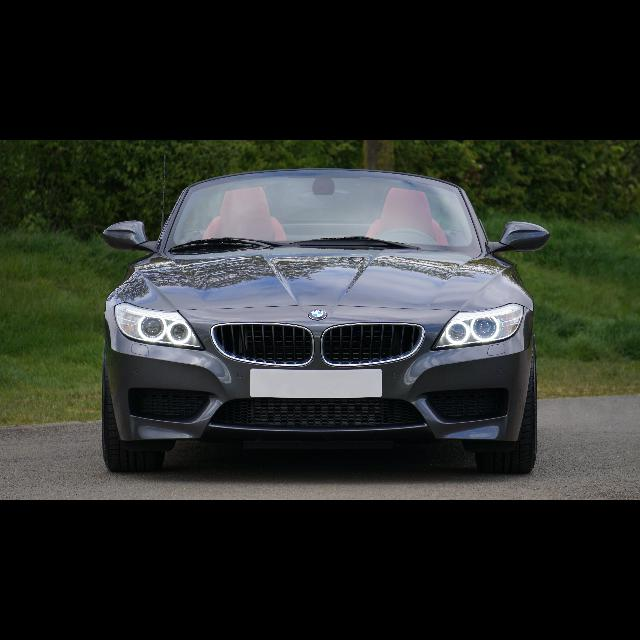cars: (79, 160, 566, 482)
